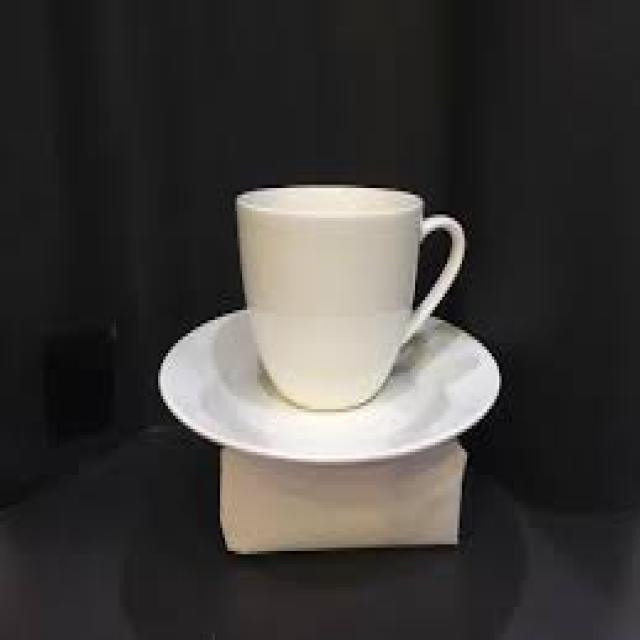taza: (216, 167, 477, 423)
